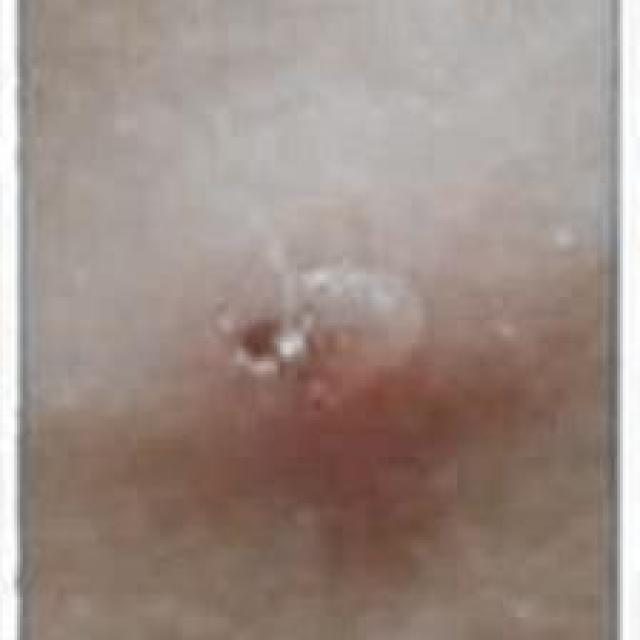others: (15, 0, 639, 640)
